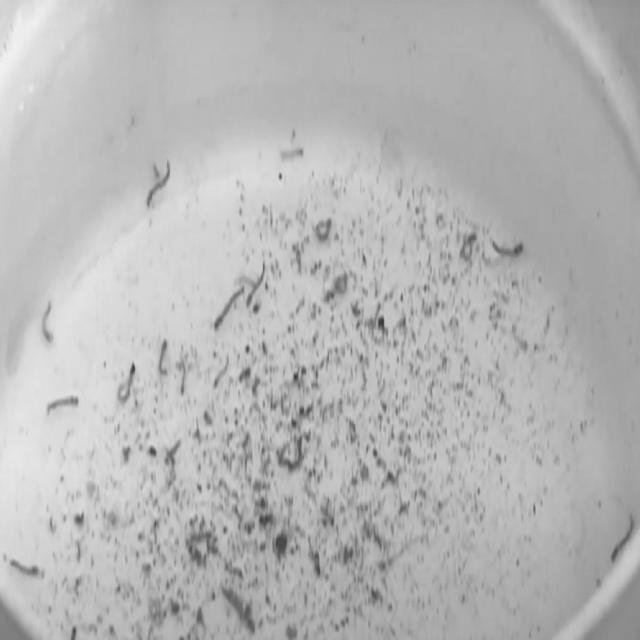larvas: (214, 288, 248, 328), (610, 512, 634, 562), (147, 160, 169, 207), (247, 262, 266, 308), (491, 235, 524, 257), (12, 554, 39, 579), (44, 393, 80, 410), (119, 366, 135, 402), (213, 359, 228, 390), (461, 231, 478, 258), (158, 341, 170, 375), (279, 146, 306, 161), (44, 302, 53, 343), (317, 216, 331, 240), (178, 356, 186, 396)
